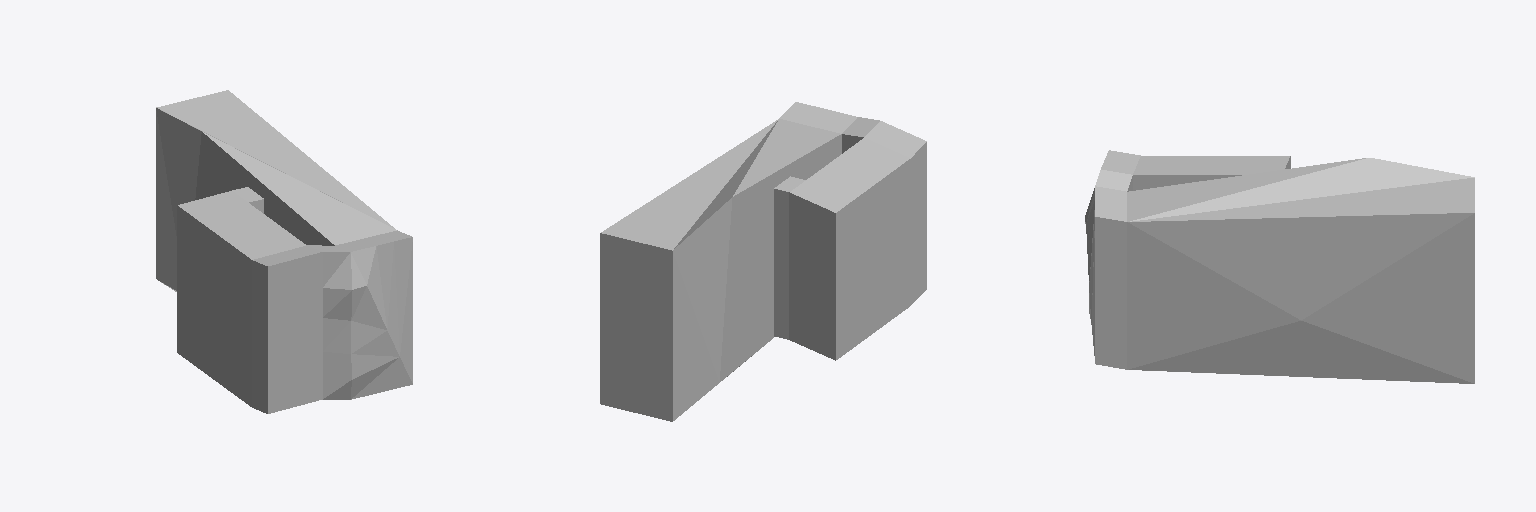
The model's file is hand.obj.
3 views of the same model, side by side, from view 1: azimuth 30°, elevation 25°; view 2: azimuth 150°, elevation 25°; view 3: azimuth 270°, elevation 25° (orthographic).
Visible parts, largest first — view 1: hand; view 2: hand; view 3: hand.
Boxes of the visible parts, x1,y1,x2,y2 form: hand: [156, 90, 412, 413]; hand: [600, 102, 926, 421]; hand: [1085, 150, 1474, 383].
Bounding box in the file's own units: 0.1693 × 0.2065 × 0.389.